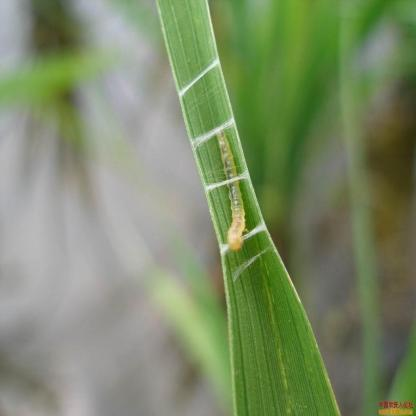leaf-folder: (206, 120, 258, 254)
